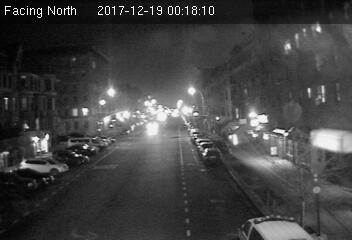car: (203, 148, 220, 162)
police: (235, 215, 322, 240)
